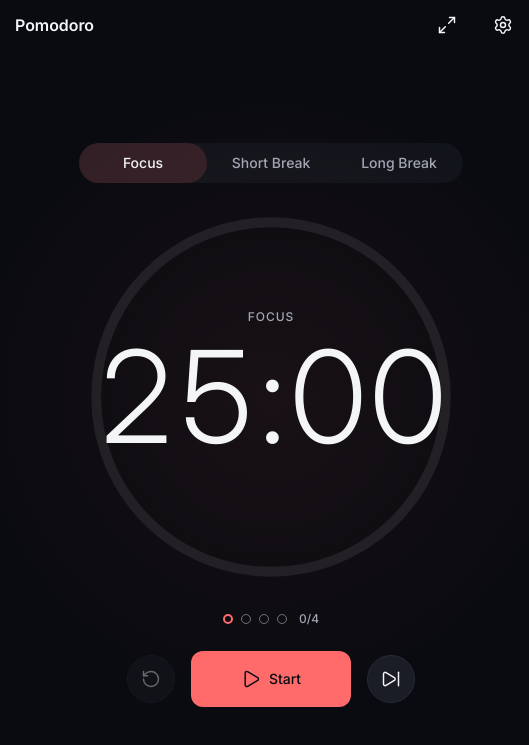
Test case: timer screen (POMO-M2) › Skip and Reset (POMO-AC5, POMO-AC6) › Skip on Focus goes to Short Break without counting a session
Click the button named "Skip to next phase" at (391, 679), box 367,655 -> 415,703
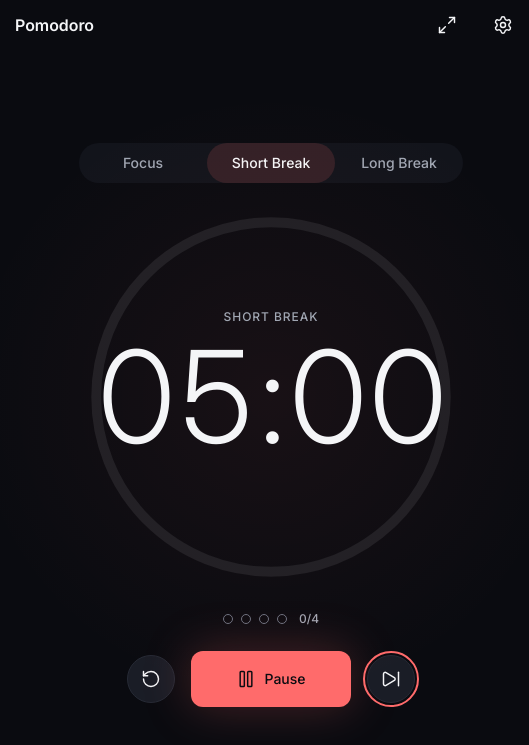
Expected: the list item "Short Break" is shown, 207,143 -> 335,183
Now the text "05:00" is shown, box 95,333 -> 447,461
